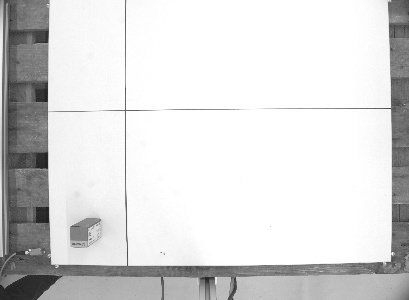b3: (66, 215, 103, 250)
